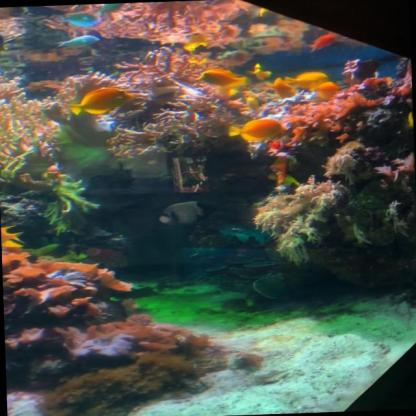fish: (64, 85, 134, 118), (228, 116, 289, 145), (156, 200, 219, 228), (192, 66, 247, 94), (260, 154, 294, 188), (284, 70, 330, 92), (1, 221, 27, 252), (266, 76, 298, 101), (308, 80, 340, 102), (57, 34, 100, 50), (241, 61, 272, 83), (60, 12, 102, 28), (184, 30, 210, 51), (308, 34, 335, 52), (95, 3, 127, 16), (0, 29, 7, 74)
